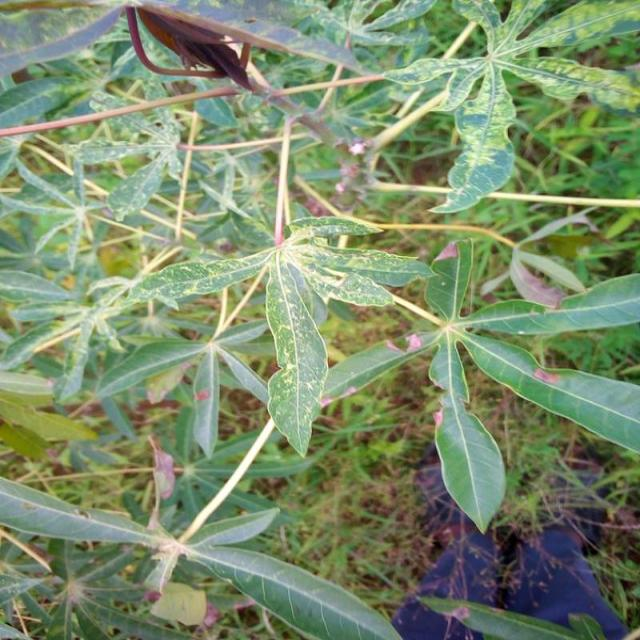cassava leaf: (182, 543, 403, 638), (264, 248, 329, 458), (433, 392, 506, 534)
